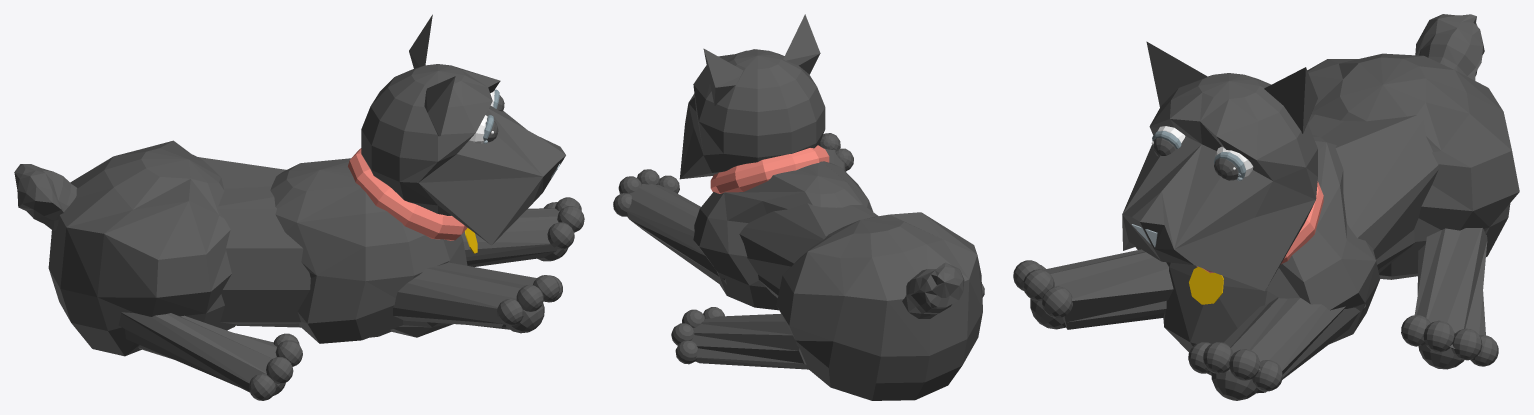
File: dog.glb
3 views of the same model, side by side, from view 1: azimuth 30°, elevation 25°; view 2: azimuth 150°, elevation 25°; view 3: azimuth 270°, elevation 25° (orthographic). The views are drawn at different scales.
Parts seen in each view (by area): view 1: group324271865, group1802304515, group232954648, group1629056283, group1169898872, group661027931, group338773787, group596616748, group2140355464, group1904539245, group1670716635, group1854115562 (+2 smaller); view 2: group324271865, group1802304515, group232954648, group1629056283, group1832581561, group338773787, group596616748, group2140355464, group975496899, group1854115562, group1863906816, group1649856869 (+1 smaller); view 3: group1802304515, group324271865, group232954648, group1629056283, group661027931, group1832581561, group338773787, group1854115562, group975496899, group2140355464, group1904539245, group1649856869 (+3 smaller).
Part boxes in pixels (bbox=[...]): group324271865: bbox=[48, 140, 235, 356]; group1802304515: bbox=[361, 64, 565, 245]; group232954648: bbox=[270, 158, 467, 343]; group1629056283: bbox=[198, 157, 310, 327]; group1169898872: bbox=[118, 312, 291, 392]; group661027931: bbox=[393, 262, 536, 329]; group338773787: bbox=[461, 208, 559, 266]; group596616748: bbox=[348, 148, 467, 240]; group2140355464: bbox=[14, 164, 77, 230]; group1904539245: bbox=[497, 275, 562, 333]; group1670716635: bbox=[249, 333, 302, 400]; group1854115562: bbox=[537, 197, 584, 261]; group324271865: bbox=[776, 212, 982, 400]; group1802304515: bbox=[679, 49, 825, 179]; group232954648: bbox=[693, 161, 873, 310]; group1629056283: bbox=[739, 203, 878, 297]; group1832581561: bbox=[677, 314, 808, 369]; group338773787: bbox=[621, 183, 726, 285]; group596616748: bbox=[710, 145, 829, 193]; group2140355464: bbox=[902, 262, 964, 318]; group975496899: bbox=[671, 307, 724, 364]; group1854115562: bbox=[613, 169, 679, 216]; group1863906816: bbox=[783, 14, 820, 74]; group1649856869: bbox=[703, 48, 743, 105]; group1802304515: bbox=[1122, 73, 1317, 291]; group324271865: bbox=[1307, 53, 1519, 279]; group232954648: bbox=[1163, 135, 1379, 352]; group1629056283: bbox=[1308, 114, 1438, 273]; group661027931: bbox=[1044, 249, 1173, 329]; group1832581561: bbox=[1414, 228, 1487, 355]; group338773787: bbox=[1207, 297, 1365, 393]; group1854115562: bbox=[1188, 342, 1282, 400]; group975496899: bbox=[1401, 315, 1498, 369]; group2140355464: bbox=[1415, 14, 1484, 80]; group1904539245: bbox=[1013, 260, 1072, 329]; group1649856869: bbox=[1264, 67, 1317, 133].
Bounding box in the file's own units: 2.98 × 1.76 × 2.39.
